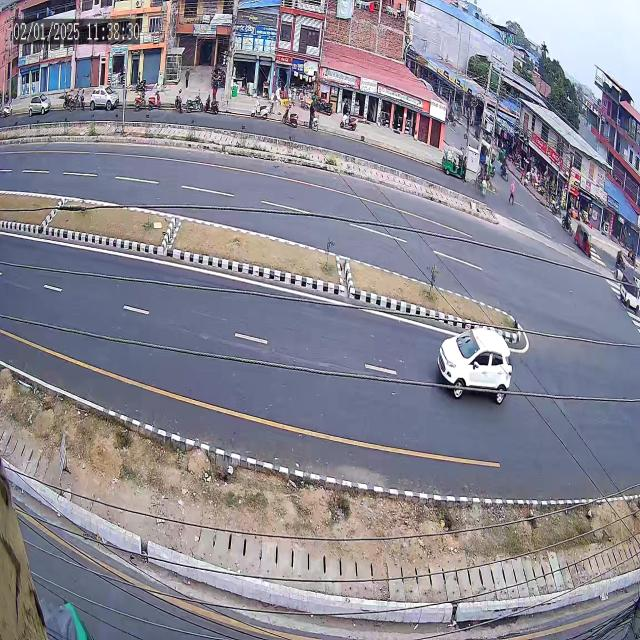auto: (571, 212, 597, 274)
car: (426, 311, 514, 419)
